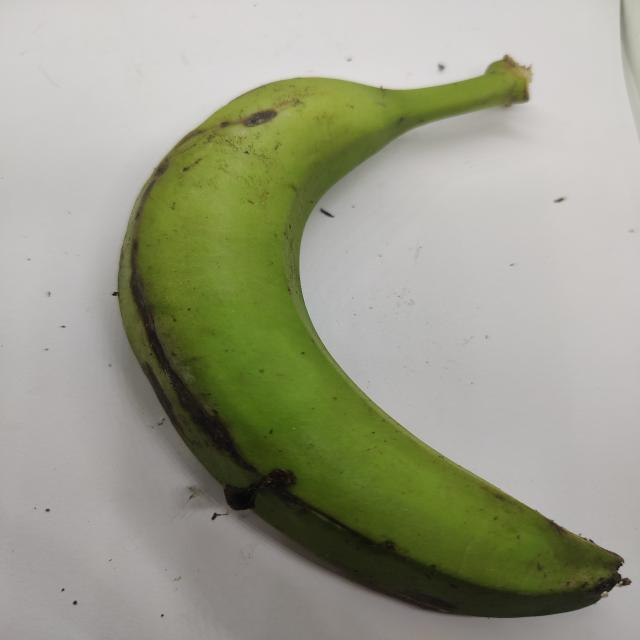Raw: (68, 38, 639, 640)
